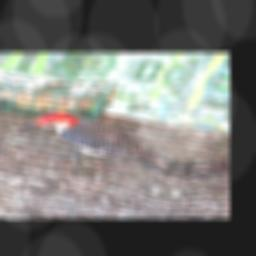Woodpecker: (0, 107, 199, 182)
